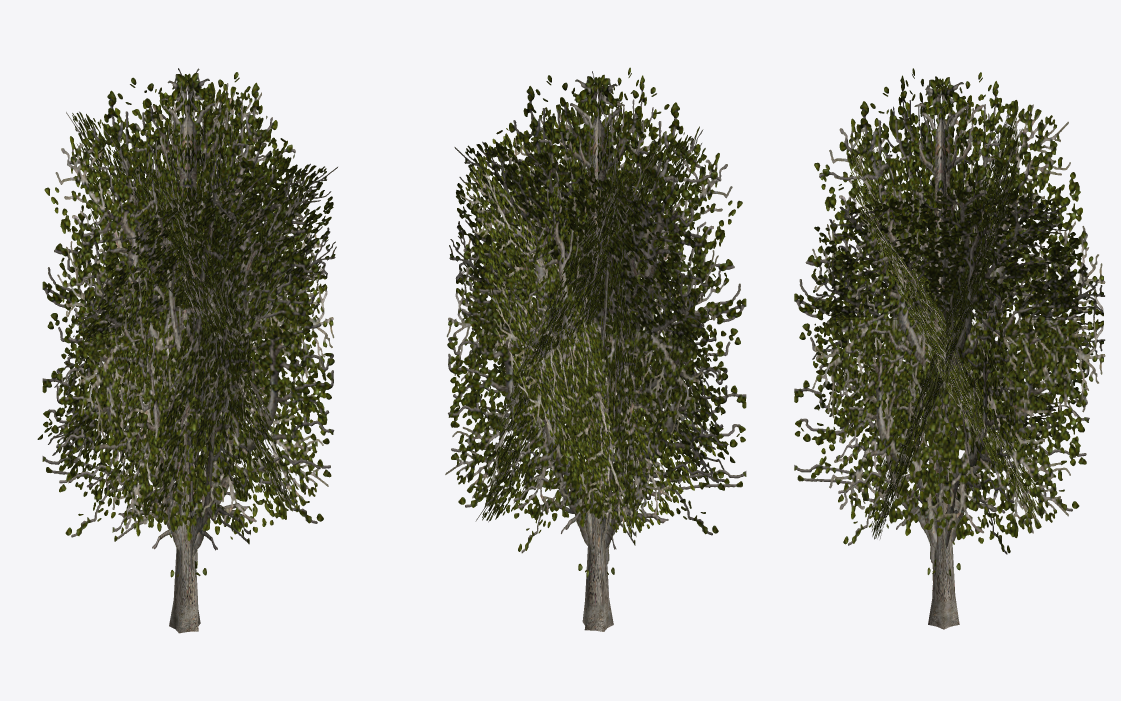
The model's file is Sharp_Poplar04.gltf.
The picture shows the model from 3 angles, left to right: view 1: azimuth 30°, elevation 25°; view 2: azimuth 150°, elevation 25°; view 3: azimuth 270°, elevation 25°; orthographic projection.
Parts seen in each view (by area): view 1: B, Afol, Trunk; view 2: B, Afol, Trunk; view 3: B, Afol, Trunk.
Boxes of the visible parts, <box> form: B: <box>37,82,337,541</box>; Afol: <box>42,68,334,599</box>; Trunk: <box>169,462,200,633</box>; B: <box>445,101,742,534</box>; Afol: <box>447,67,746,577</box>; Trunk: <box>582,463,613,631</box>; B: <box>812,94,1105,544</box>; Afol: <box>794,68,1090,590</box>; Trunk: <box>928,460,959,629</box>.
Size of the model in its own units: 10.49 by 20 by 10.36.
Materials: 2 (2 with a texture image).
